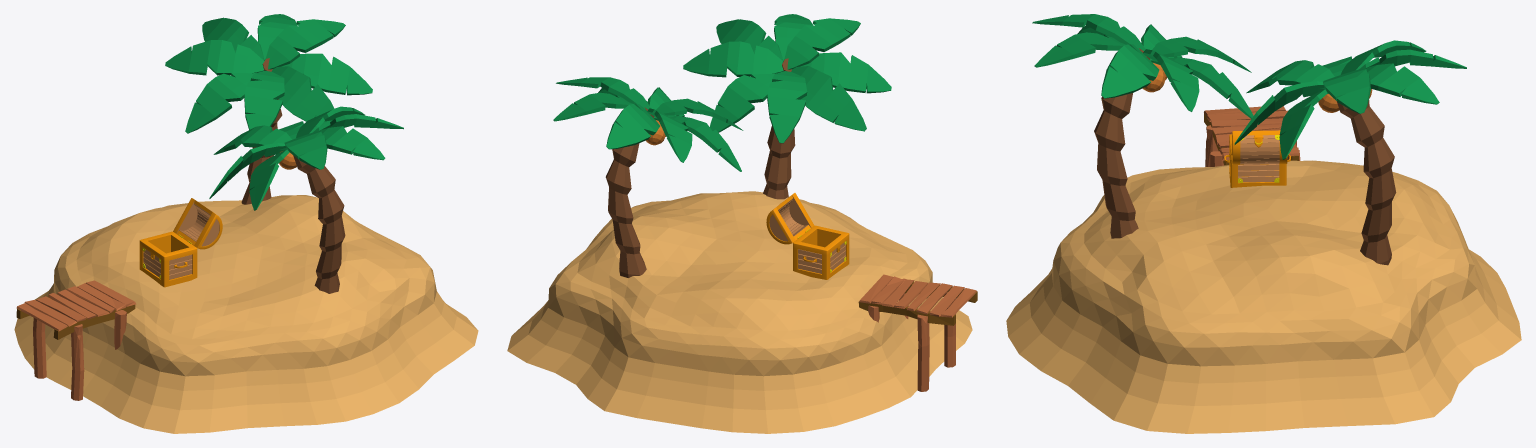
The model's file is finalisland.glb.
The picture shows the model from 3 angles, left to right: view 1: azimuth 30°, elevation 25°; view 2: azimuth 150°, elevation 25°; view 3: azimuth 270°, elevation 25°; orthographic projection. The views are drawn at different scales.
Visible parts, largest first — view 1: Island_01 - Default_0, PalmTree, PalmTree.001, Dock_08 - Default_0, Chest_Bottom_Material.001_0, Chest_Up_Material.001_0, Dock_02 - Default_0; view 2: Island_01 - Default_0, PalmTree.001, PalmTree, Dock_08 - Default_0, Chest_Bottom_Material.001_0, Chest_Up_Material.001_0, Dock_02 - Default_0; view 3: Island_01 - Default_0, PalmTree, PalmTree.001, Dock_08 - Default_0, Chest_Up_Material.001_0, Chest_Bottom_Material.001_0.
Boxes of the visible parts, bbox=[...] form: Island_01 - Default_0: bbox=[14, 195, 478, 433]; PalmTree: bbox=[165, 14, 372, 204]; PalmTree.001: bbox=[209, 106, 403, 293]; Dock_08 - Default_0: bbox=[16, 280, 136, 400]; Chest_Bottom_Material.001_0: bbox=[139, 231, 197, 287]; Chest_Up_Material.001_0: bbox=[173, 198, 222, 249]; Dock_02 - Default_0: bbox=[16, 294, 135, 339]; Island_01 - Default_0: bbox=[507, 191, 972, 433]; PalmTree.001: bbox=[683, 14, 891, 199]; PalmTree: bbox=[553, 77, 743, 277]; Dock_08 - Default_0: bbox=[859, 274, 976, 391]; Chest_Bottom_Material.001_0: bbox=[793, 225, 849, 279]; Chest_Up_Material.001_0: bbox=[766, 193, 814, 244]; Dock_02 - Default_0: bbox=[858, 282, 977, 325]; Island_01 - Default_0: bbox=[1006, 160, 1521, 433]; PalmTree: bbox=[1234, 40, 1466, 265]; PalmTree.001: bbox=[1032, 14, 1253, 238]; Dock_08 - Default_0: bbox=[1204, 106, 1300, 166]; Chest_Up_Material.001_0: bbox=[1231, 130, 1287, 164]; Chest_Bottom_Material.001_0: bbox=[1224, 134, 1290, 187].
Size of the model in its own units: 2.42 by 1.48 by 2.24.
Materials: 12 (1 with a texture image).
